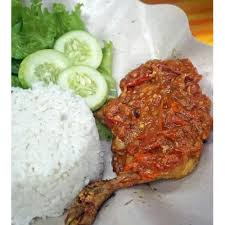ayam_geprek: (88, 58, 223, 192)
